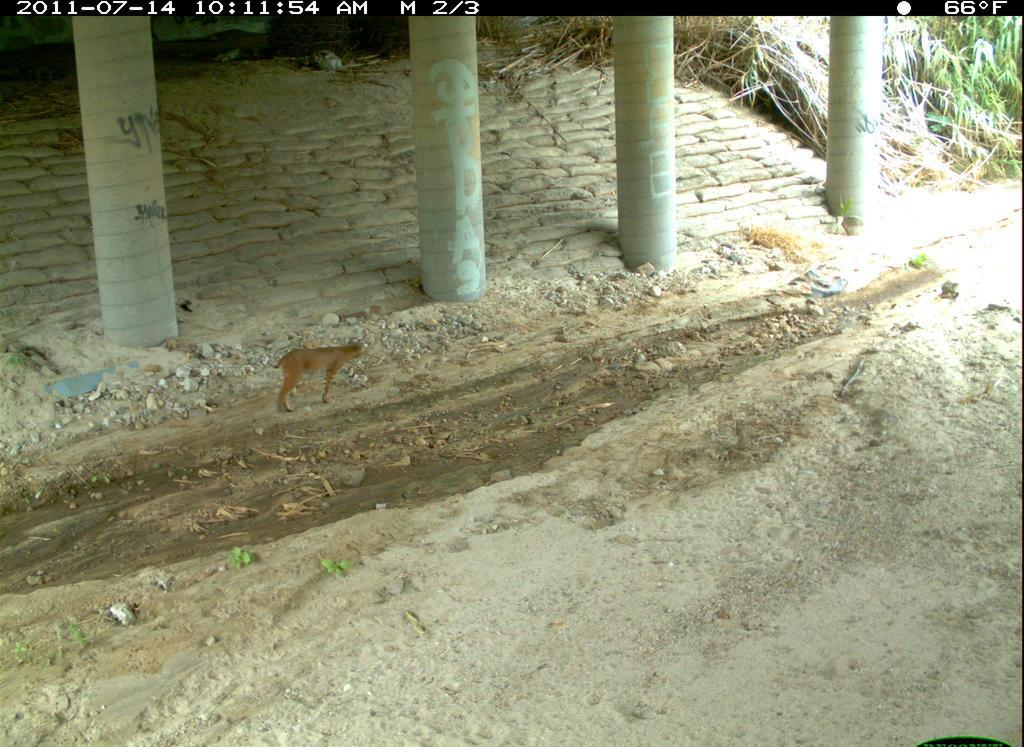bobcat: (541, 669, 749, 747)
